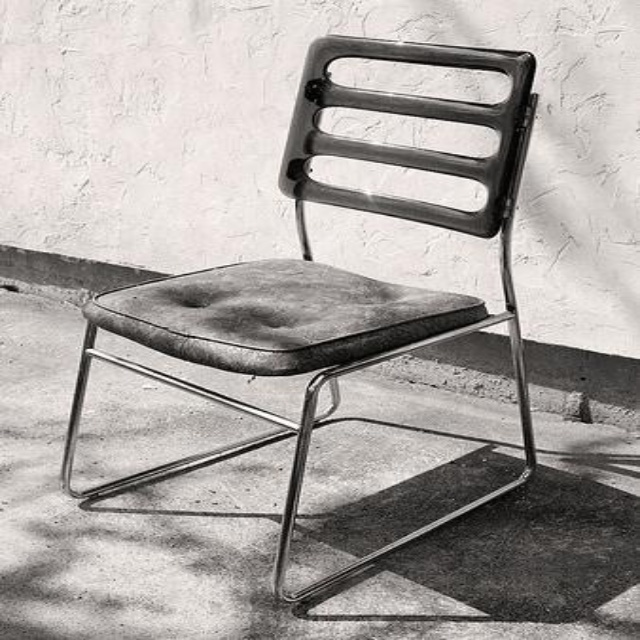obstacle: (62, 36, 534, 601)
